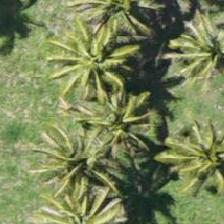coconut_tree: (46, 112, 136, 202), (71, 75, 161, 165), (46, 16, 136, 106), (155, 10, 223, 100), (76, 0, 166, 52), (172, 111, 223, 201)
